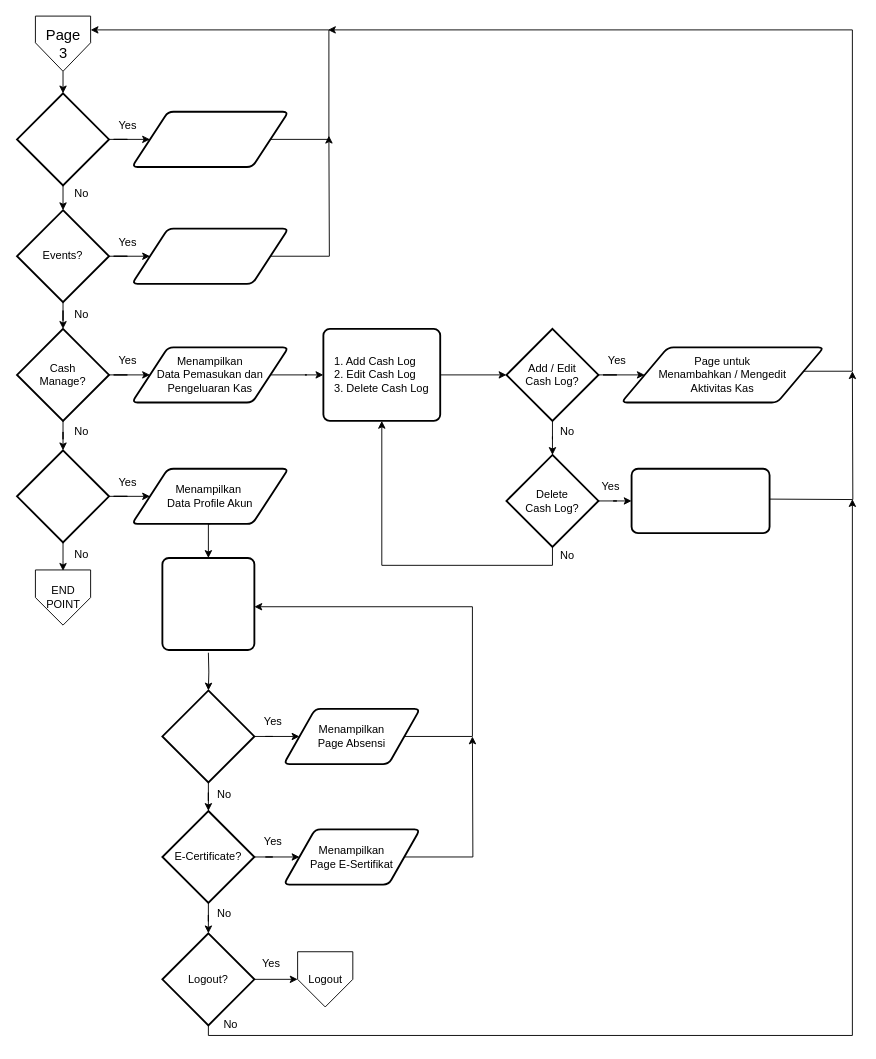
Image size: 876x1059. Some labels were removed from this diagram. The shapes that lost their labels are listed below. From the top down, each one's centre as x and y in pixels, then its label:
At point (62, 139): "Schedule?".
At point (210, 138): "Menampilkan Jadwal dan tempat Syntax".
At point (210, 255): "Menampilkan Jadwal Events Syntax".
At point (62, 496): "Profile?".
At point (700, 500): "Delete Data Cash Log".
At point (208, 603): "1. Presence 2. E-Certificate 3. Logout".
At point (208, 736): "Presence?".
